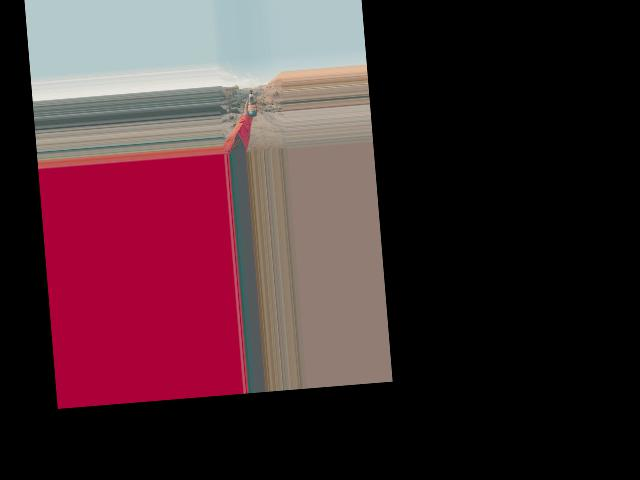beer: (246, 89, 257, 116)
